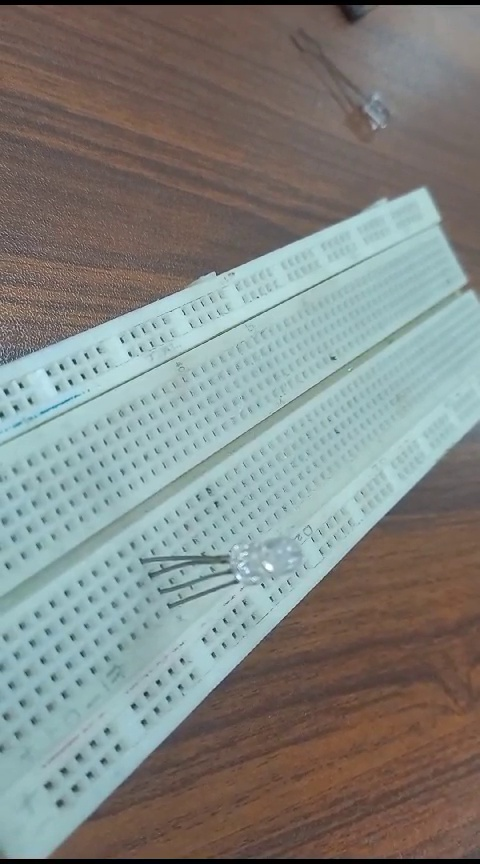LED: (143, 509, 299, 609)
